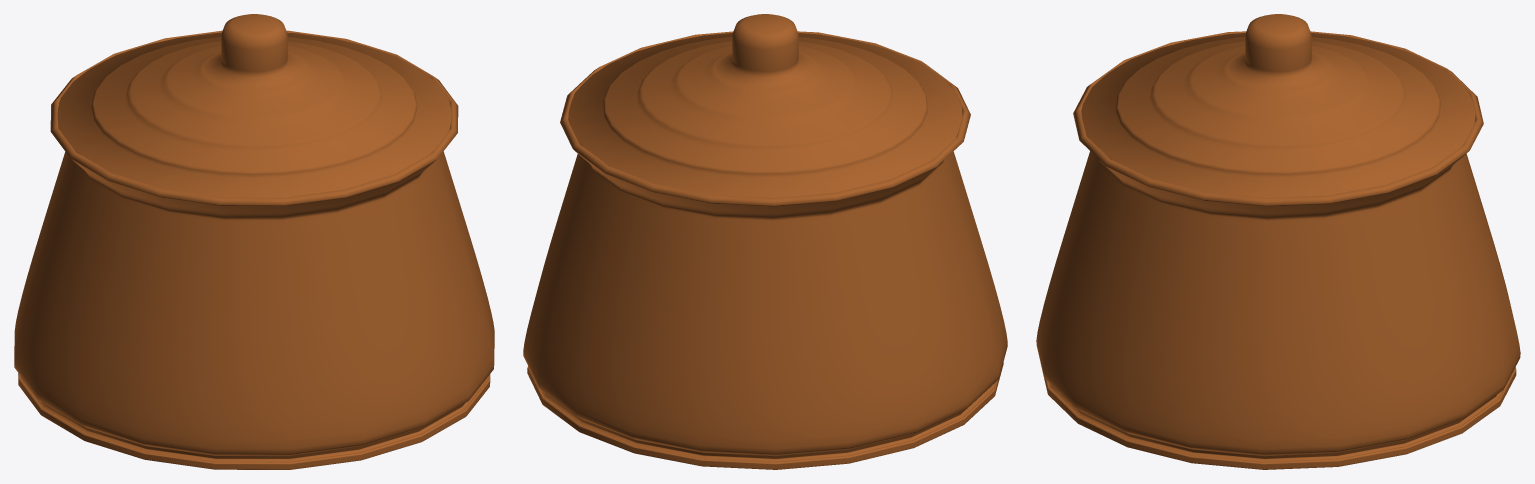
The model's file is bakir-tencere.glb.
The picture shows the model from 3 angles, left to right: view 1: azimuth 30°, elevation 25°; view 2: azimuth 150°, elevation 25°; view 3: azimuth 270°, elevation 25°; orthographic projection.
Visible parts, largest first — view 1: NurbsPath.004; view 2: NurbsPath.004; view 3: NurbsPath.004.
Boxes of the visible parts, x1,y1,x2,y2 form: NurbsPath.004: (14,14,494,469); NurbsPath.004: (523,14,1007,469); NurbsPath.004: (1036,14,1520,469).
Size of the model in its own units: 0.266 by 0.2097 by 0.266.
